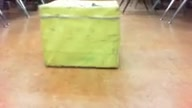cube: (38, 1, 120, 69)
